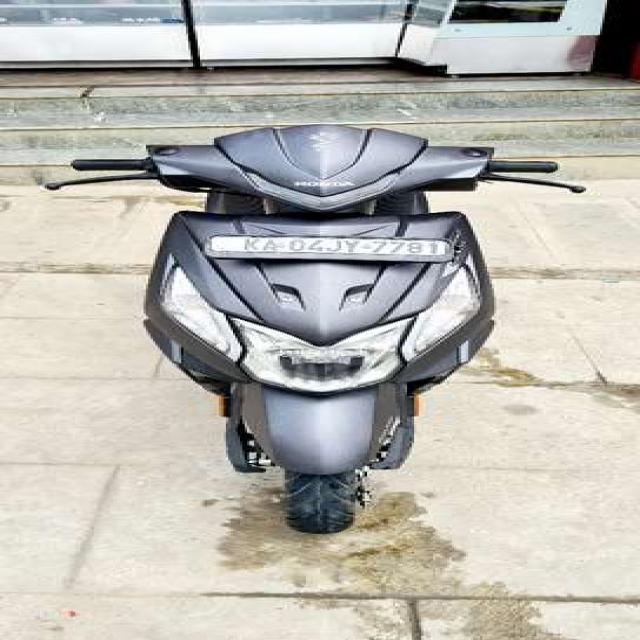number plate: (205, 232, 454, 261)
